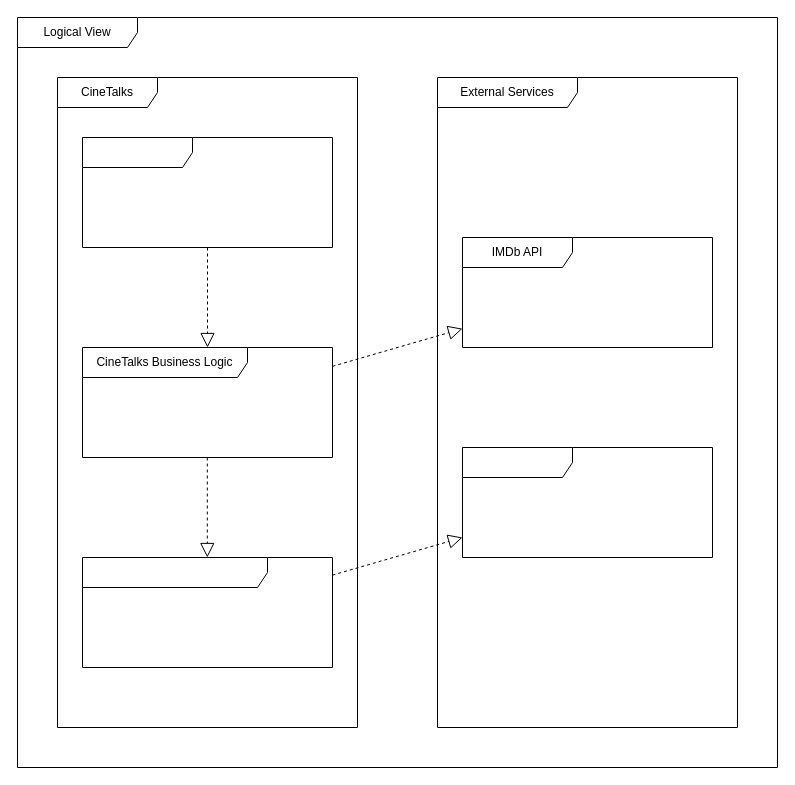
This 795x785 diagram has some shape labels left out. The shapes that lost their labels are listed below. From the top down, each one's centre as x and y in pixels, then its label:
the point at 207,192: CineTalks UI
the point at 587,502: Firebase API
the point at 207,612: CineTalks Database Schema
